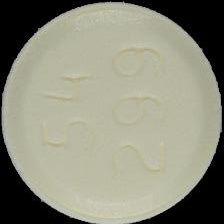54868-0927: (0, 0, 224, 224)
